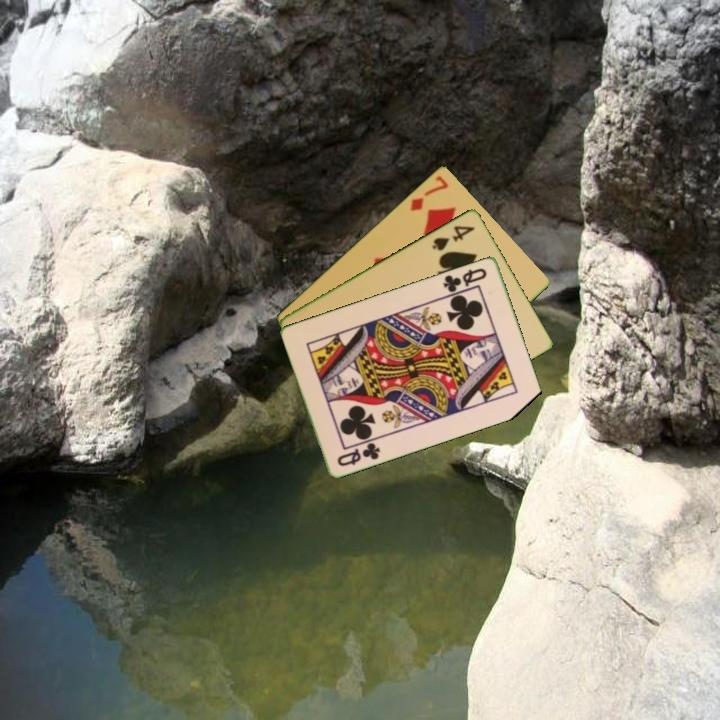4s: (428, 221, 478, 253)
7d: (406, 172, 451, 214)
Qc: (439, 264, 490, 295), (334, 439, 383, 469)
